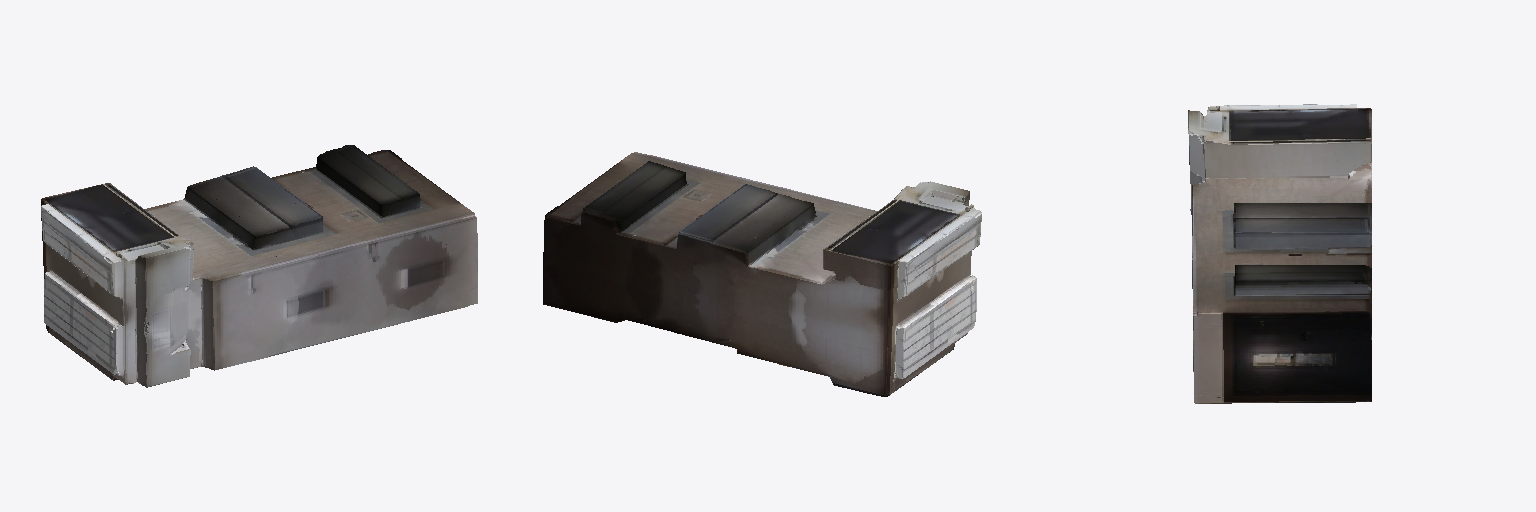
3 renders of one model, left to right at view 1: azimuth 30°, elevation 25°; view 2: azimuth 150°, elevation 25°; view 3: azimuth 270°, elevation 25°, orthographic.
Parts seen in each view (by area): view 1: chunk000_group000_sub002; view 2: chunk000_group000_sub002; view 3: chunk000_group000_sub002.
Part boxes in pixels (bbox=[...]): chunk000_group000_sub002: bbox=[41, 145, 477, 387]; chunk000_group000_sub002: bbox=[543, 152, 981, 396]; chunk000_group000_sub002: bbox=[1188, 104, 1371, 403].
Bounding box in the file's own units: 6.18 × 2.29 × 2.73.
Materials: 1 (1 with a texture image).